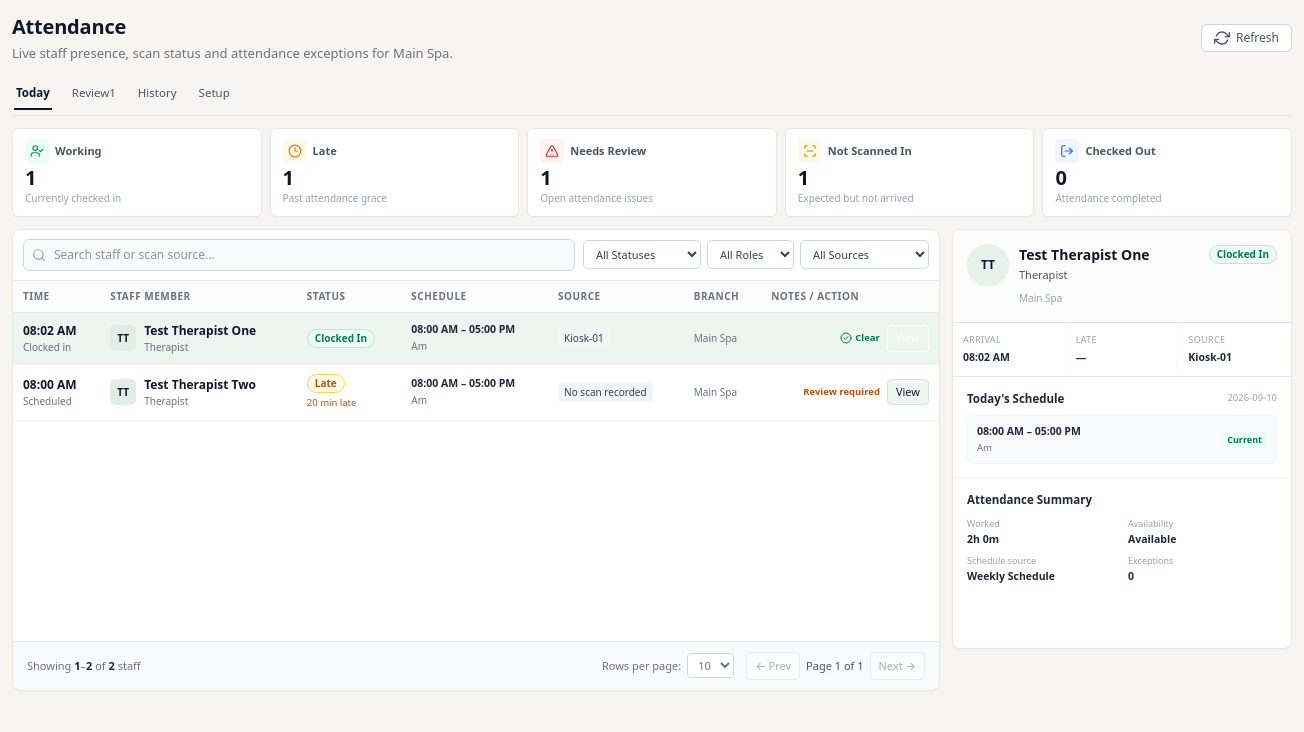
Scenario: Attendance Today workspace › loads real Attendance History only when History is opened
Click the tab with test id "attendance-tab-history".
click(157, 94)  # box [136,78,178,110]
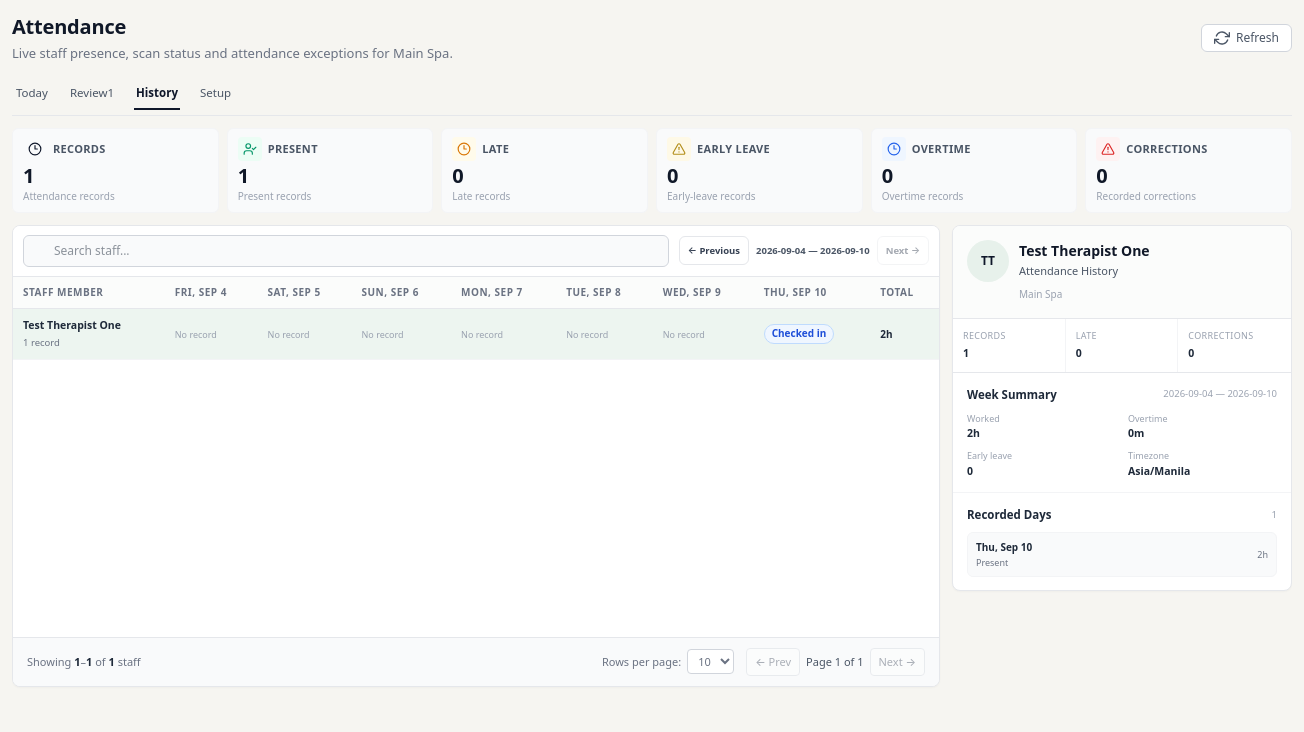
Expected: the text "Test Therapist One" is shown, [23,318,121,332]
Expected: the element with test id "attendance-history-pagination" is shown, [13,637,939,686]
